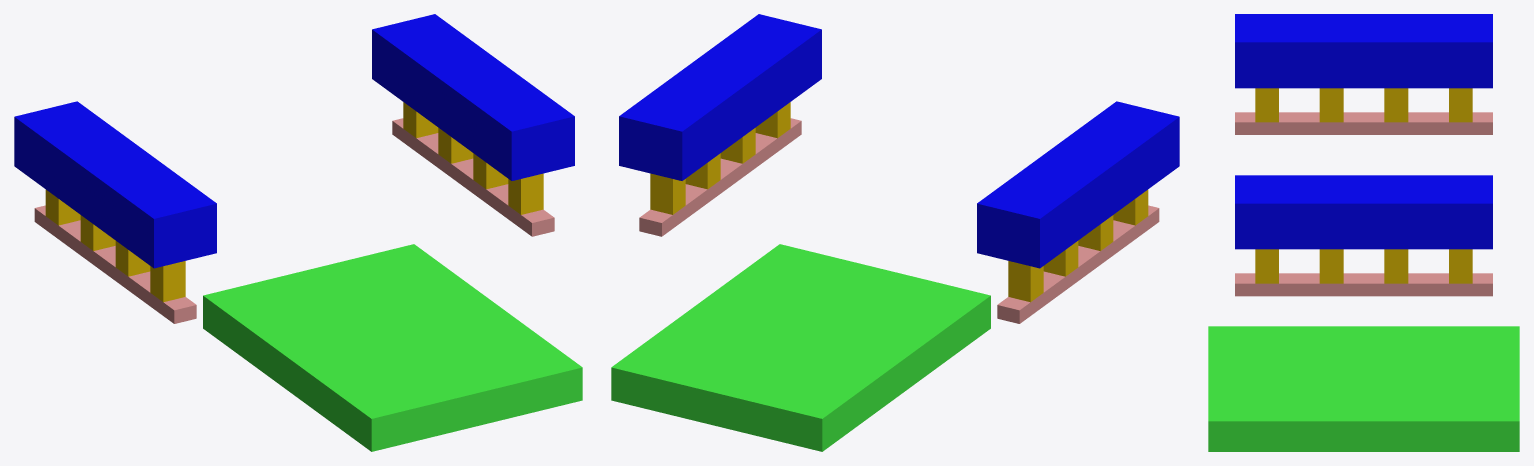
The model's file is sky130_fd_sc_hd__fill_4.obj.
The picture shows the model from 3 angles, left to right: view 1: azimuth 30°, elevation 25°; view 2: azimuth 150°, elevation 25°; view 3: azimuth 270°, elevation 25°; orthographic projection. The views are drawn at different scales.
Visible parts, largest first — view 1: nwell, metal1, mcon, li; view 2: nwell, metal1, mcon, li; view 3: nwell, metal1, li, mcon.
Boxes of the visible parts, x1,y1,x2,y2 form: nwell: (203,244,582,451); metal1: (14,14,574,268); mcon: (45,102,543,302); li: (34,118,554,323); nwell: (611,244,990,451); metal1: (619,14,1179,268); mcon: (650,102,1148,302); li: (639,118,1159,323); nwell: (1208,326,1519,451); metal1: (1235,14,1492,249); li: (1235,112,1492,296); mcon: (1255,88,1472,283).
Size of the model in its own units: 3.2 by 1.98 by 2.22.
